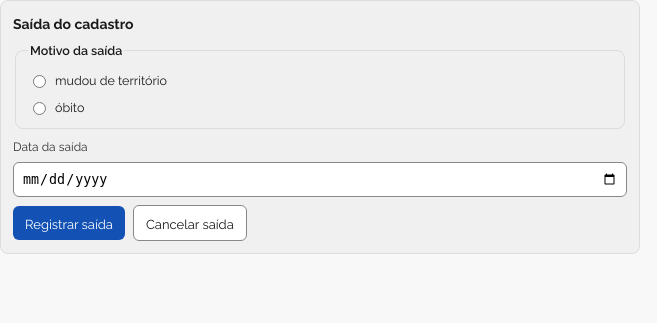
it: ExitForm › sem motivo ou sem data: a frase e o campo; nada sai
The image size is (657, 323).
Click the button "Registrar saída".
click(69, 223)  # box [13,206,125,240]
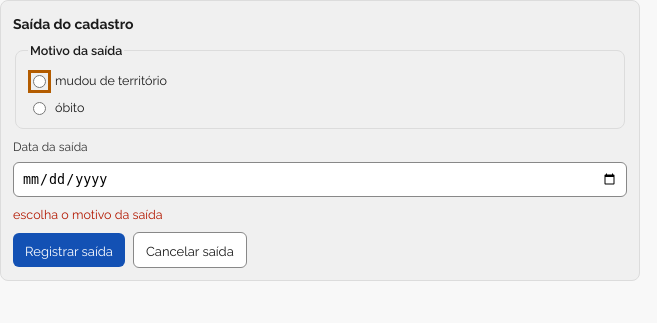
Result: the message reads "escolha o motivo da saída" at [13,205,163,222]
Click the radio button labelled "mudou de território".
click(40, 82)  # box [33,76,46,88]
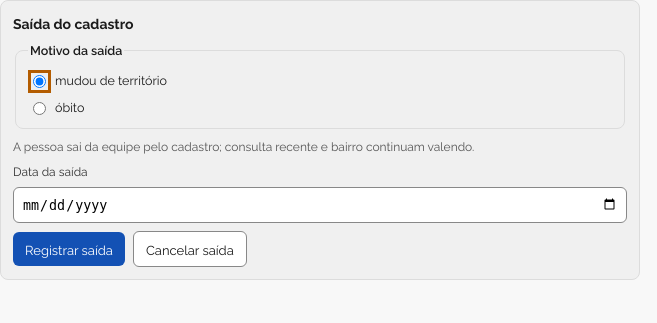
Click the button "Registrar saída".
click(69, 249)  # box [13,232,125,266]
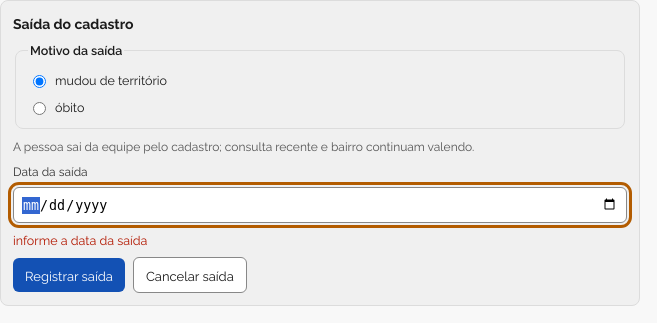
Result: the message reads "informe a data da saída" at [13,231,147,248]
